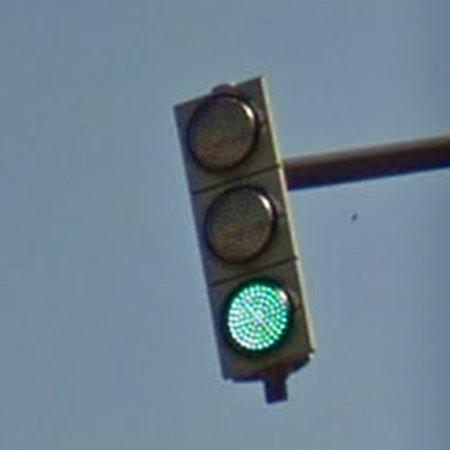traffic lights: (167, 76, 321, 387)
